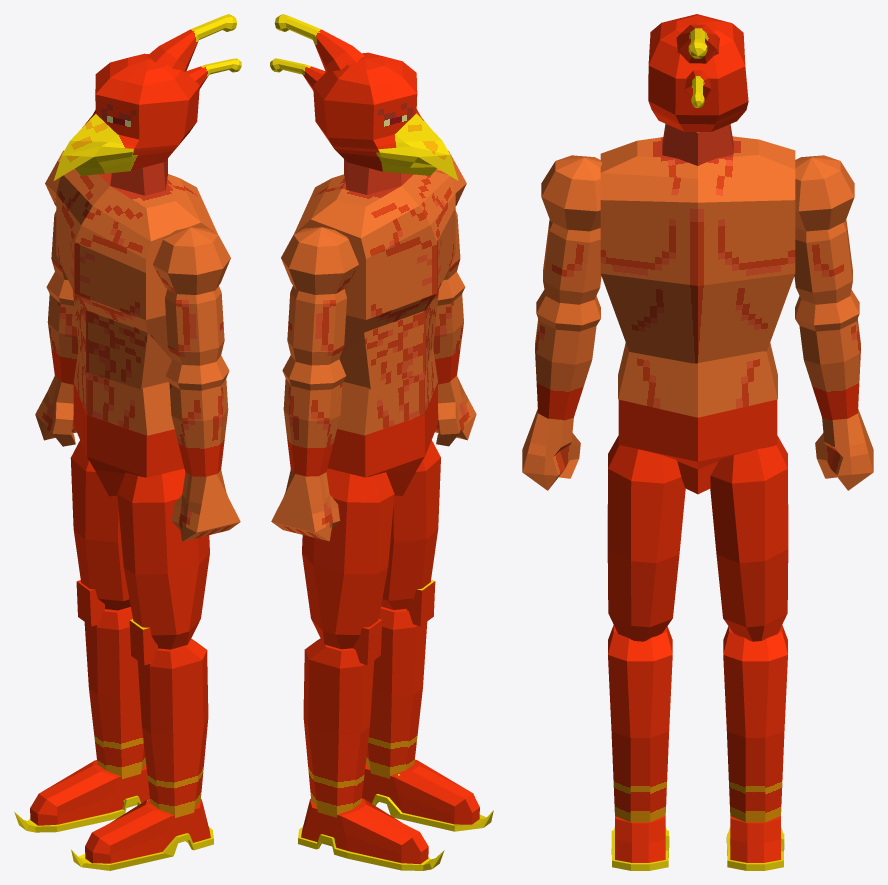
Rendered from MagicianA.glb.
The picture shows the model from 3 angles, left to right: view 1: azimuth 30°, elevation 25°; view 2: azimuth 150°, elevation 25°; view 3: azimuth 270°, elevation 25°; orthographic projection. The views are drawn at different scales.
Visible parts, largest first — view 1: Torso, Cabeça, Perna Cima E, Perna Baixo E, Perna Baixo D, Braço Cima E, Perna Cima D, Pé E, Braço Baixo E, Pé D, Pélvis, Pélvis 2 (+4 smaller); view 2: Torso, Cabeça, Perna Cima D, Perna Baixo D, Perna Baixo E, Braço Cima D, Perna Cima E, Pé D, Braço Baixo D, Pé E, Pélvis, Pélvis 2 (+4 smaller); view 3: Torso, Perna Cima D, Perna Cima E, Perna Baixo E, Perna Baixo D, Cabeça, Pélvis, Pélvis 2, Braço Cima E, Braço Cima D, Braço Baixo E, Braço Baixo D (+4 smaller).
Part boxes in pixels (x1,y1,x2,y2): Torso: [56, 158, 217, 389]; Cabeça: [53, 14, 241, 180]; Perna Cima E: [117, 468, 209, 649]; Perna Baixo E: [129, 619, 208, 817]; Perna Baixo D: [76, 580, 145, 779]; Braço Cima E: [153, 227, 230, 365]; Perna Cima D: [70, 420, 130, 610]; Pé E: [71, 799, 213, 870]; Braço Baixo E: [165, 355, 229, 476]; Pé D: [14, 760, 149, 832]; Pélvis: [73, 382, 184, 496]; Pélvis 2: [73, 347, 174, 435]; Torso: [294, 159, 455, 389]; Cabeça: [270, 14, 458, 180]; Perna Cima D: [302, 468, 394, 649]; Perna Baixo D: [303, 619, 382, 817]; Perna Baixo E: [366, 580, 435, 778]; Braço Cima D: [281, 227, 358, 365]; Perna Cima E: [381, 419, 440, 609]; Pé D: [298, 798, 444, 870]; Braço Baixo D: [282, 355, 346, 476]; Pé E: [362, 759, 493, 831]; Pélvis: [327, 383, 437, 495]; Pélvis 2: [337, 346, 437, 435]; Torso: [600, 124, 795, 363]; Perna Cima D: [710, 435, 788, 641]; Perna Cima E: [607, 435, 685, 641]; Perna Baixo E: [608, 625, 672, 822]; Perna Baixo D: [723, 625, 787, 822]; Cabeça: [648, 14, 748, 131]; Pélvis: [618, 399, 777, 494]; Pélvis 2: [618, 343, 777, 417]; Braço Cima E: [541, 155, 602, 304]; Braço Cima D: [794, 155, 854, 304]; Braço Baixo E: [535, 290, 600, 420]; Braço Baixo D: [795, 290, 860, 420].
Bounding box in the file's own units: 2.15 × 8.12 × 3.
5 materials, 5 textured.
